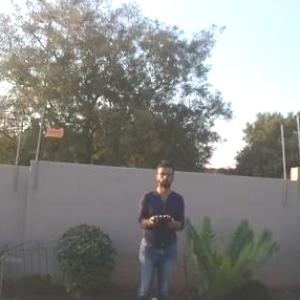follow: (131, 155, 188, 299)
